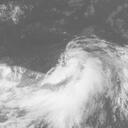cyclone: (43, 35, 100, 94)
